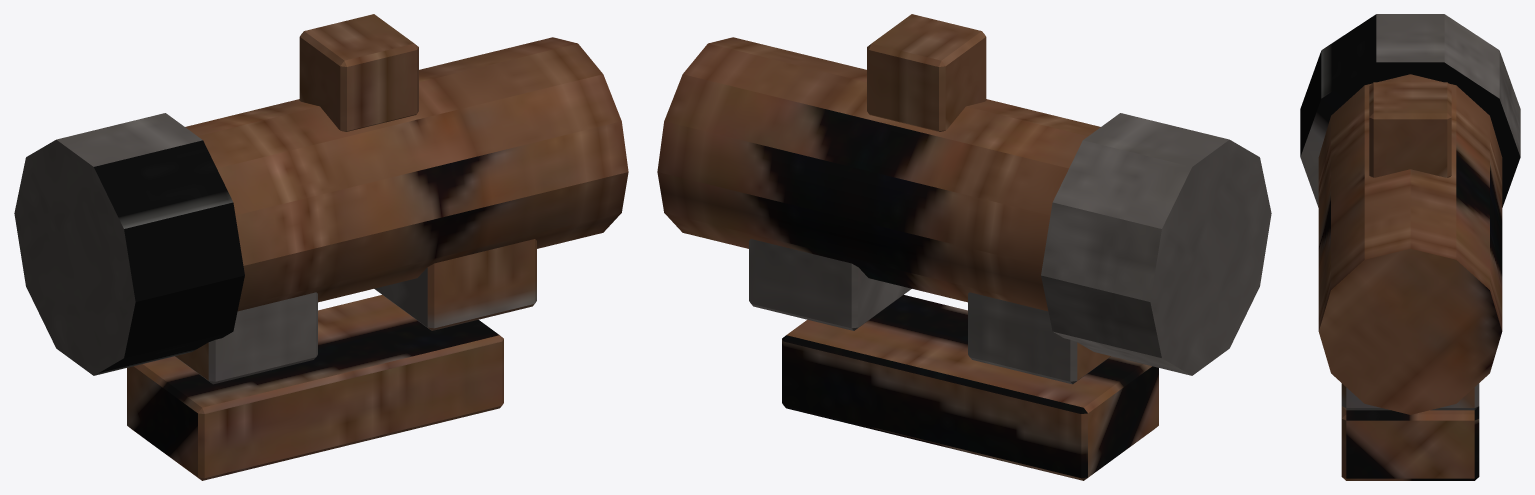
Rendered from crows_eye_3x.glb.
3 views of the same model, side by side, from view 1: azimuth 30°, elevation 25°; view 2: azimuth 150°, elevation 25°; view 3: azimuth 270°, elevation 25° (orthographic). The views are drawn at different scales.
Visible parts, largest first — view 1: crows_eye_3x; view 2: crows_eye_3x; view 3: crows_eye_3x.
Part boxes in pixels (left/top/right/bottom): crows_eye_3x: left=14, top=14, right=628, bottom=480; crows_eye_3x: left=657, top=14, right=1271, bottom=480; crows_eye_3x: left=1300, top=14, right=1520, bottom=480.
Bounding box in the file's own units: 0.115 × 0.081 × 0.048.
1 material, 1 textured.
